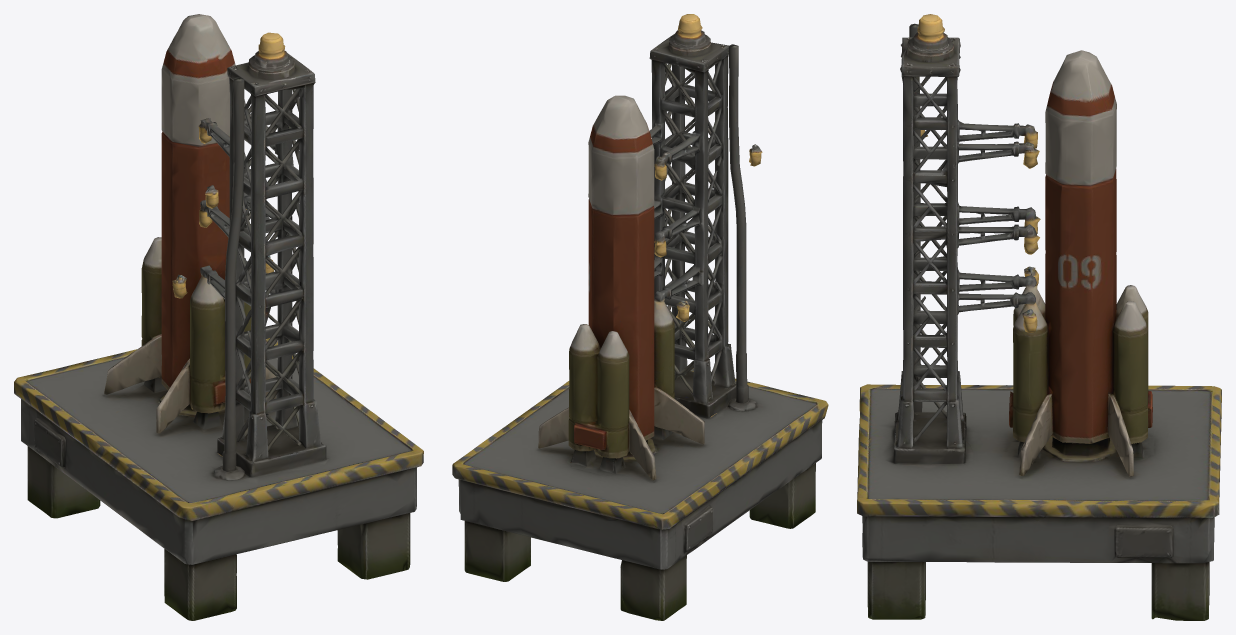
Rendered from rocket-platform-maquette-tripo.glb.
3 renders of one model, left to right at view 1: azimuth 30°, elevation 25°; view 2: azimuth 150°, elevation 25°; view 3: azimuth 270°, elevation 25°, orthographic. The views are drawn at different scales.
Parts seen in each view (by area): view 1: tripo_node_2633d1d6-af4e-4b4f-8b96-60827a38a125; view 2: tripo_node_2633d1d6-af4e-4b4f-8b96-60827a38a125; view 3: tripo_node_2633d1d6-af4e-4b4f-8b96-60827a38a125.
Boxes of the visible parts, left/top/right/bottom form: tripo_node_2633d1d6-af4e-4b4f-8b96-60827a38a125: left=14, top=14, right=423, bottom=620; tripo_node_2633d1d6-af4e-4b4f-8b96-60827a38a125: left=452, top=14, right=828, bottom=620; tripo_node_2633d1d6-af4e-4b4f-8b96-60827a38a125: left=857, top=14, right=1221, bottom=620.
Bounding box in the file's own units: 0.4741 × 1 × 0.6041.
1 material, 1 textured.
